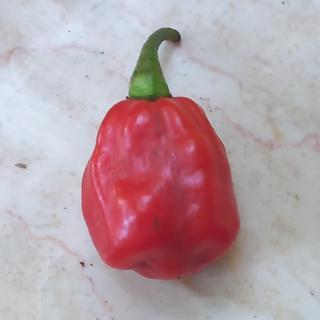Grade-A: (75, 91, 243, 282)
